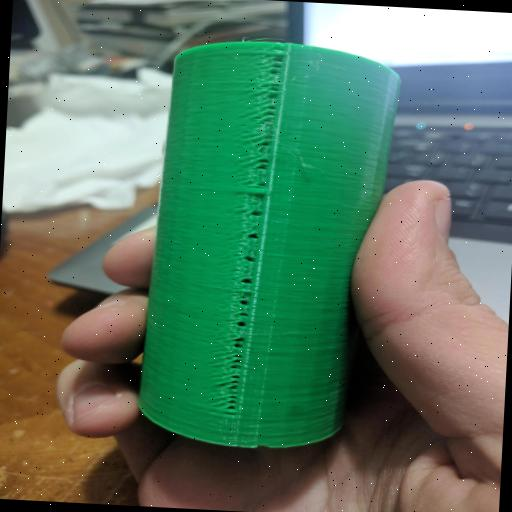cracks: (194, 40, 288, 418)
